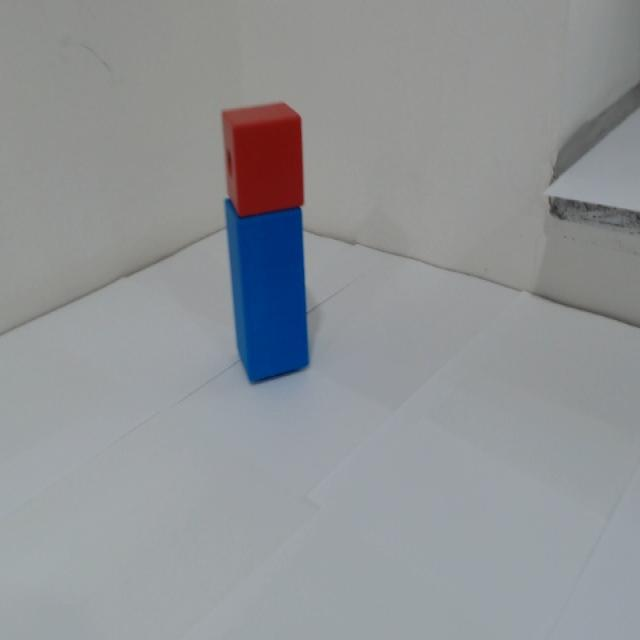cube: (213, 101, 325, 214)
